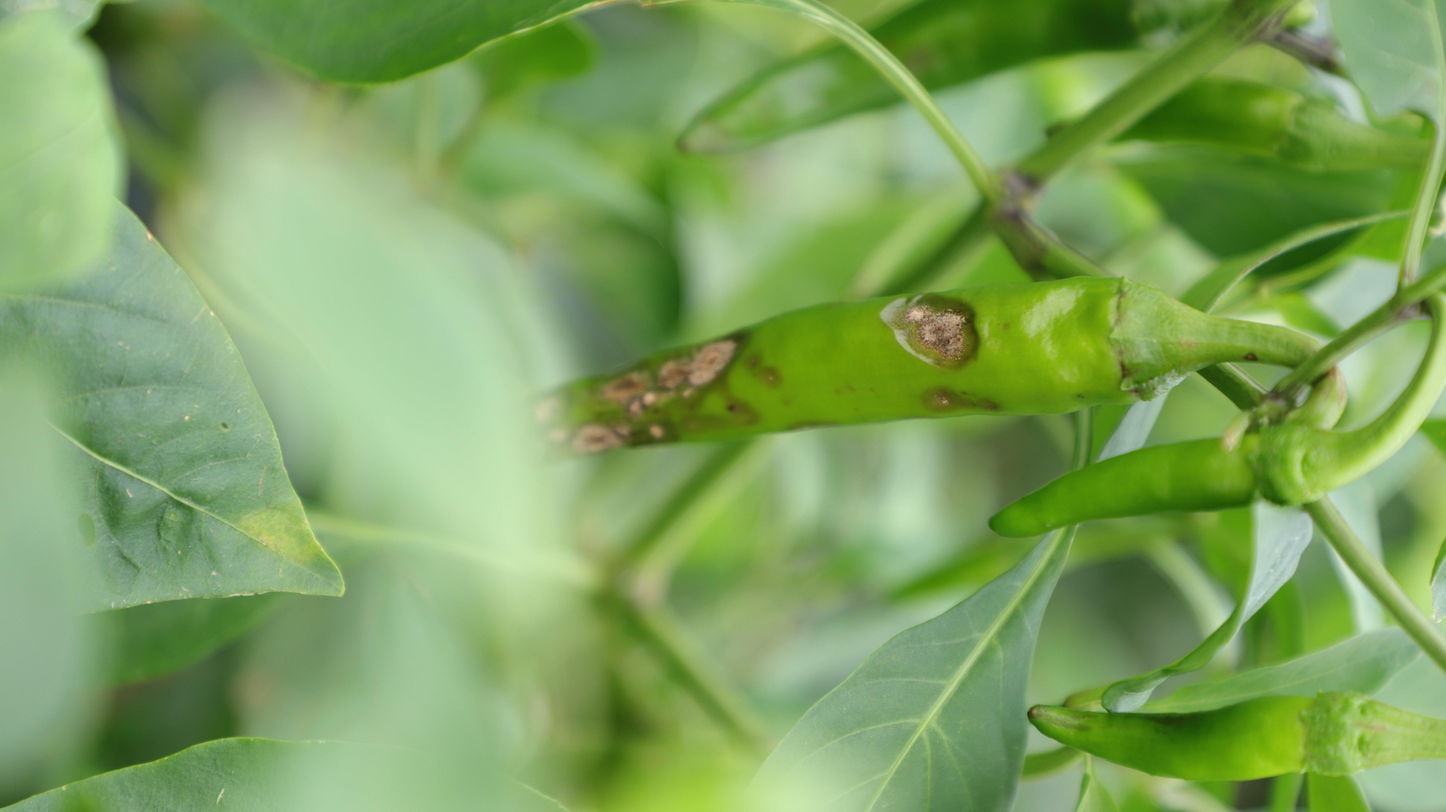Buah Cabai Sehat: (1017, 684, 1369, 789), (992, 429, 1302, 543)
Busuk Buah Antraknosa: (531, 270, 1168, 461)
